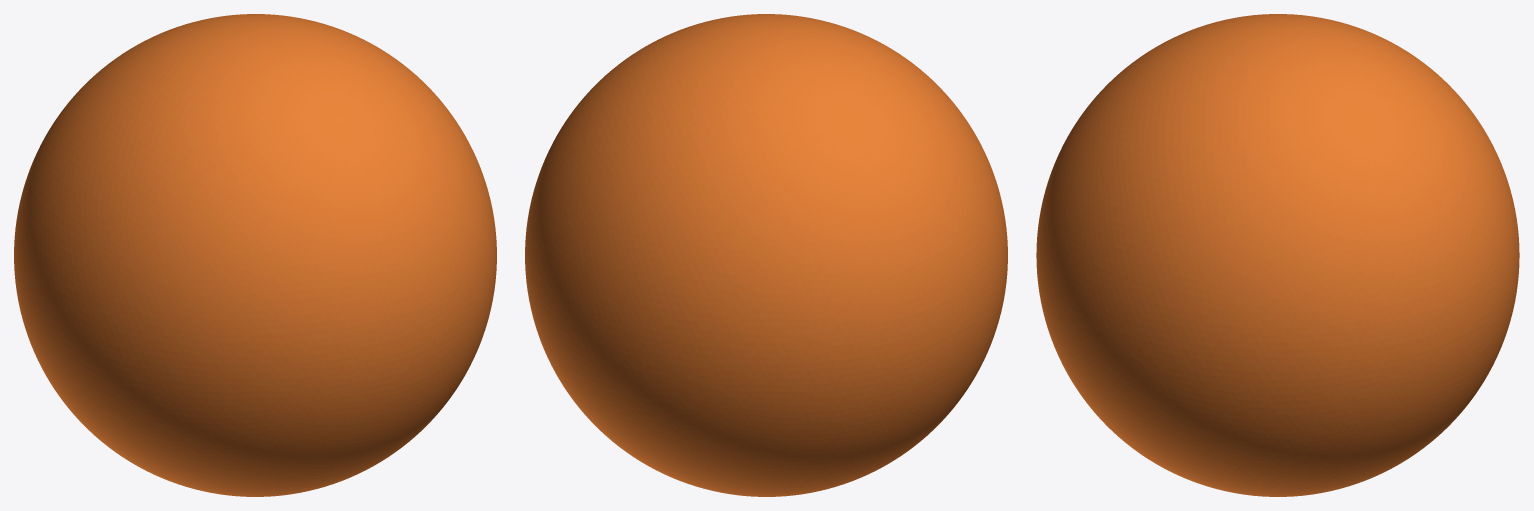
The model's file is FracturedShield.fbx.
3 renders of one model, left to right at view 1: azimuth 30°, elevation 25°; view 2: azimuth 150°, elevation 25°; view 3: azimuth 270°, elevation 25°, orthographic.
Visible parts, largest first — view 1: Shield.001_cell.130, Shield.001_cell.081, Shield.001_cell.025, Shield.001_cell.037, Shield.001_cell.101, Shield.001_cell.108, Shield.001_cell.040, Shield.001_cell.016, Shield.001_cell.045, Shield.001_cell.059, Shield.001_cell.069, Shield.001_cell.003 (+32 smaller); view 2: Shield.001_cell.034, Shield.001_cell.065, Shield.001_cell.127, Shield.001_cell.009, Shield.001_cell.066, Shield.001_cell.027, Shield.001_cell.116, Shield.001_cell.101, Shield.001_cell.071, Shield.001_cell.032, Shield.001_cell.011, Shield.001_cell.123 (+36 smaller); view 3: Shield.001_cell.072, Shield.001_cell.110, Shield.001_cell.107, Shield.001_cell.052, Shield.001_cell.099, Shield.001_cell.025, Shield.001_cell.005, Shield.001_cell.045, Shield.001_cell.061, Shield.001_cell.019, Shield.001_cell.057, Shield.001_cell.111 (+34 smaller).
Part boxes in pixels (left/top/right/bottom): Shield.001_cell.130: left=299, top=204, right=410, bottom=379; Shield.001_cell.081: left=168, top=86, right=366, bottom=230; Shield.001_cell.025: left=362, top=137, right=475, bottom=308; Shield.001_cell.037: left=193, top=61, right=382, bottom=178; Shield.001_cell.101: left=53, top=92, right=160, bottom=254; Shield.001_cell.108: left=254, top=363, right=391, bottom=449; Shield.001_cell.040: left=147, top=151, right=234, bottom=278; Shield.001_cell.016: left=182, top=250, right=310, bottom=346; Shield.001_cell.045: left=260, top=32, right=396, bottom=110; Shield.001_cell.059: left=69, top=208, right=176, bottom=302; Shield.001_cell.069: left=178, top=212, right=323, bottom=281; Shield.001_cell.003: left=356, top=347, right=465, bottom=439; Shield.001_cell.034: left=717, top=193, right=850, bottom=366; Shield.001_cell.065: left=659, top=208, right=762, bottom=416; Shield.001_cell.127: left=738, top=81, right=868, bottom=195; Shield.001_cell.009: left=812, top=211, right=933, bottom=367; Shield.001_cell.066: left=625, top=91, right=753, bottom=211; Shield.001_cell.027: left=720, top=349, right=884, bottom=450; Shield.001_cell.116: left=844, top=149, right=965, bottom=296; Shield.001_cell.101: left=865, top=85, right=980, bottom=243; Shield.001_cell.071: left=594, top=240, right=685, bottom=391; Shield.001_cell.032: left=585, top=335, right=720, bottom=454; Shield.001_cell.011: left=692, top=418, right=811, bottom=491; Shield.001_cell.123: left=558, top=198, right=628, bottom=323; Shield.001_cell.072: left=1108, top=142, right=1237, bottom=330; Shield.001_cell.110: left=1274, top=290, right=1400, bottom=424; Shield.001_cell.107: left=1255, top=177, right=1410, bottom=297; Shield.001_cell.052: left=1145, top=131, right=1308, bottom=258; Shield.001_cell.099: left=1079, top=314, right=1190, bottom=444; Shield.001_cell.025: left=1041, top=121, right=1131, bottom=281; Shield.001_cell.005: left=1304, top=100, right=1419, bottom=210; Shield.001_cell.045: left=1150, top=33, right=1276, bottom=126; Shield.001_cell.061: left=1347, top=360, right=1476, bottom=453; Shield.001_cell.019: left=1221, top=65, right=1326, bottom=159; Shield.001_cell.057: left=1204, top=346, right=1323, bottom=429; Shield.001_cell.111: left=1213, top=255, right=1289, bottom=350.
Bounding box in the file's own units: 100 × 100 × 100.
